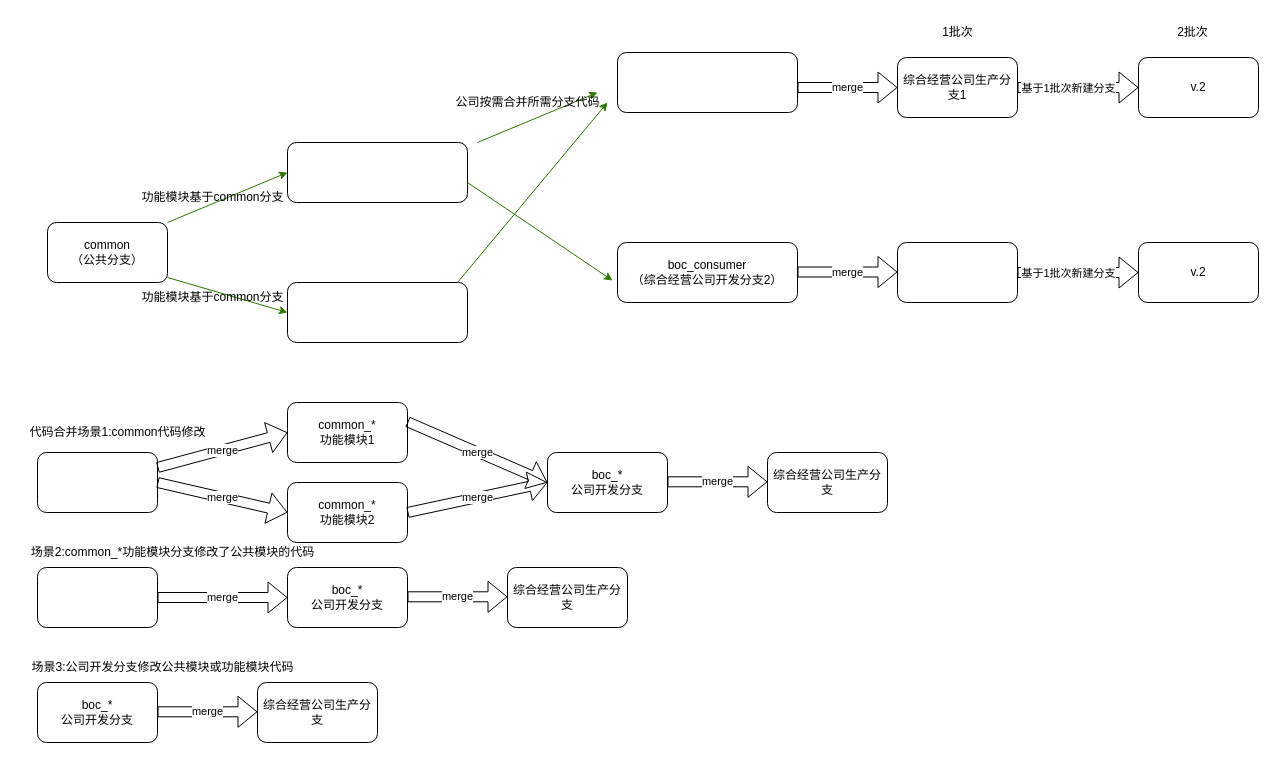
Some shapes in this 1276 by 760 pixel diagram are drawn without their labels. The box of each missing label's shape, as (x1, y1, x2, y2) in pixels:
boc_international （综合经营公司开发分支1）: (616, 52, 798, 112)
commin_* 功能模块分支: (36, 566, 158, 628)
common: (36, 452, 158, 512)
common_BankCompanyLinkage (功能模块分支2): (286, 282, 468, 342)
common_SpecialGovern (功能模块分支1): (286, 142, 468, 202)
综合经营公司生产分支2: (896, 242, 1018, 302)
